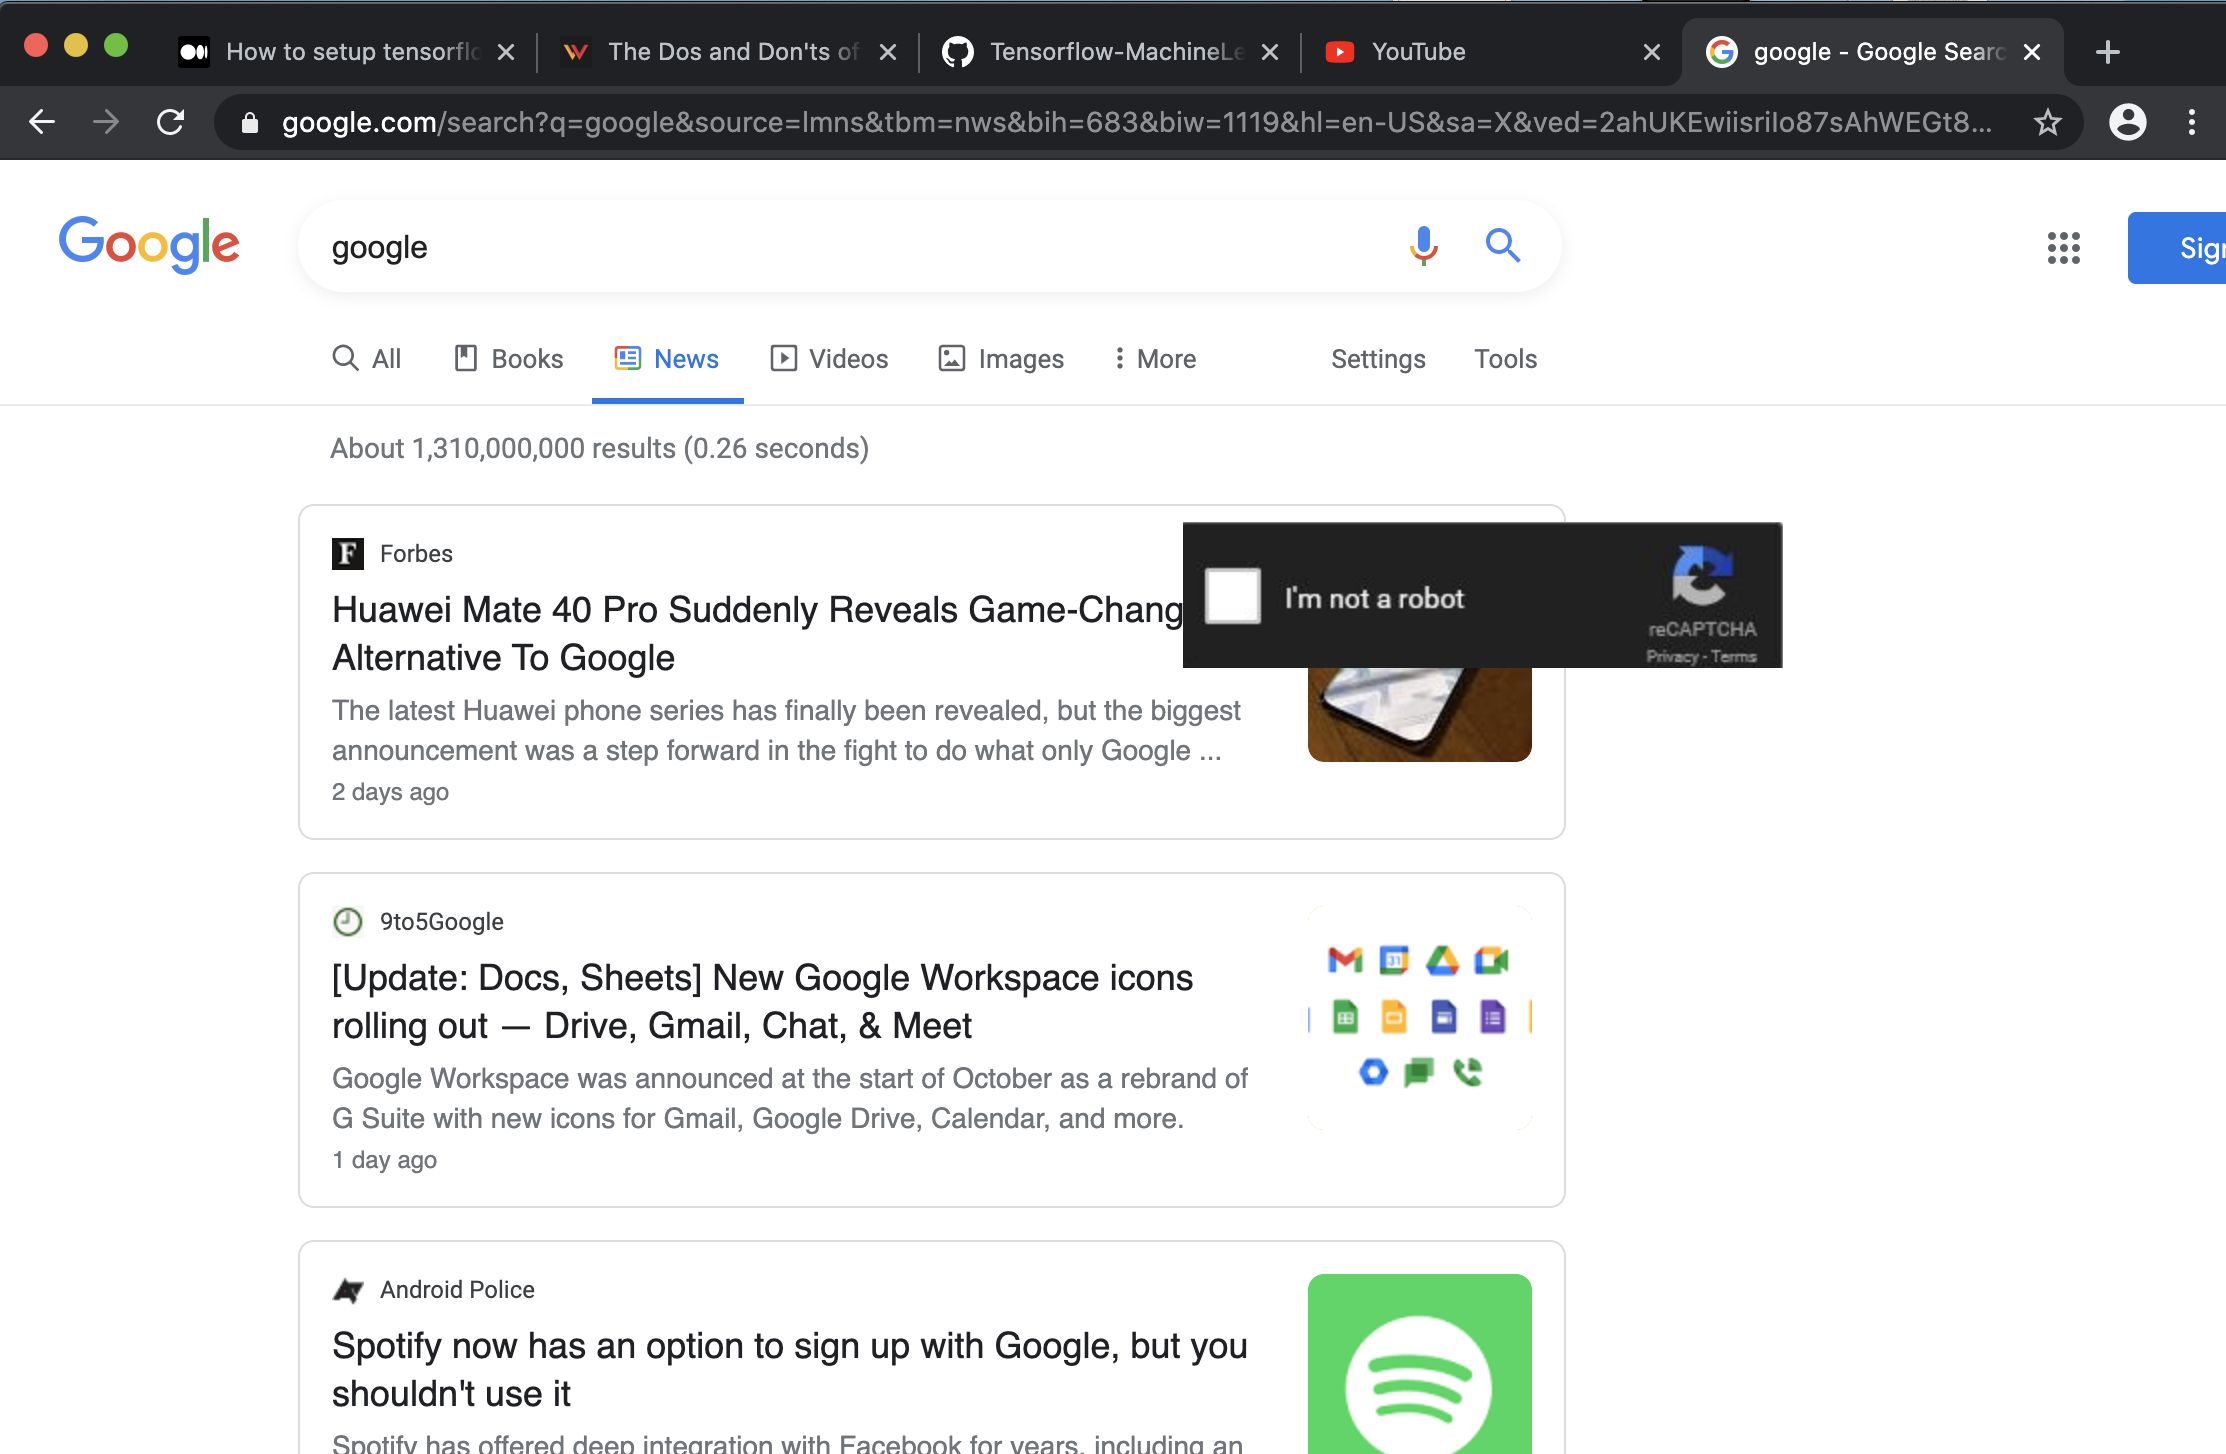captcha: (1170, 506, 1806, 693)
